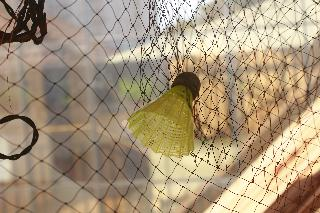shuttlecock: (127, 71, 200, 156)
